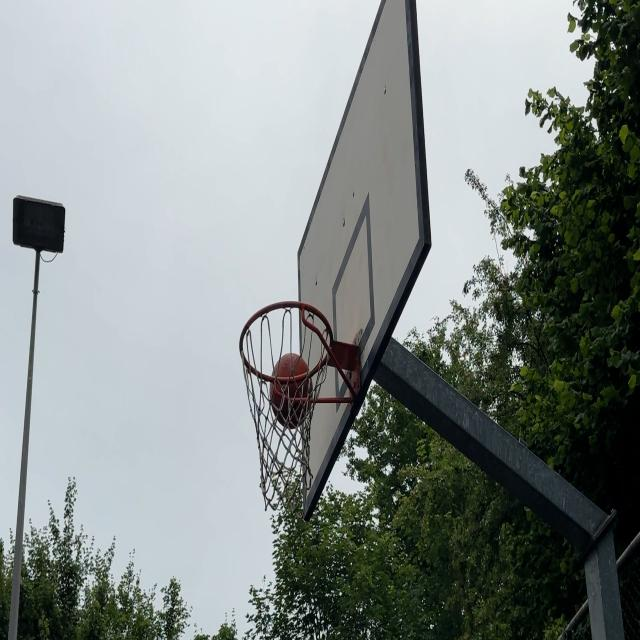rebound_hit: (269, 355, 314, 426)
